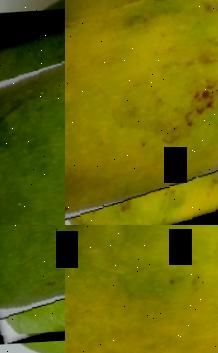PartiallyRipe: (65, 0, 218, 225), (65, 225, 218, 353)
Unripe: (0, 11, 65, 225), (0, 225, 65, 336)
